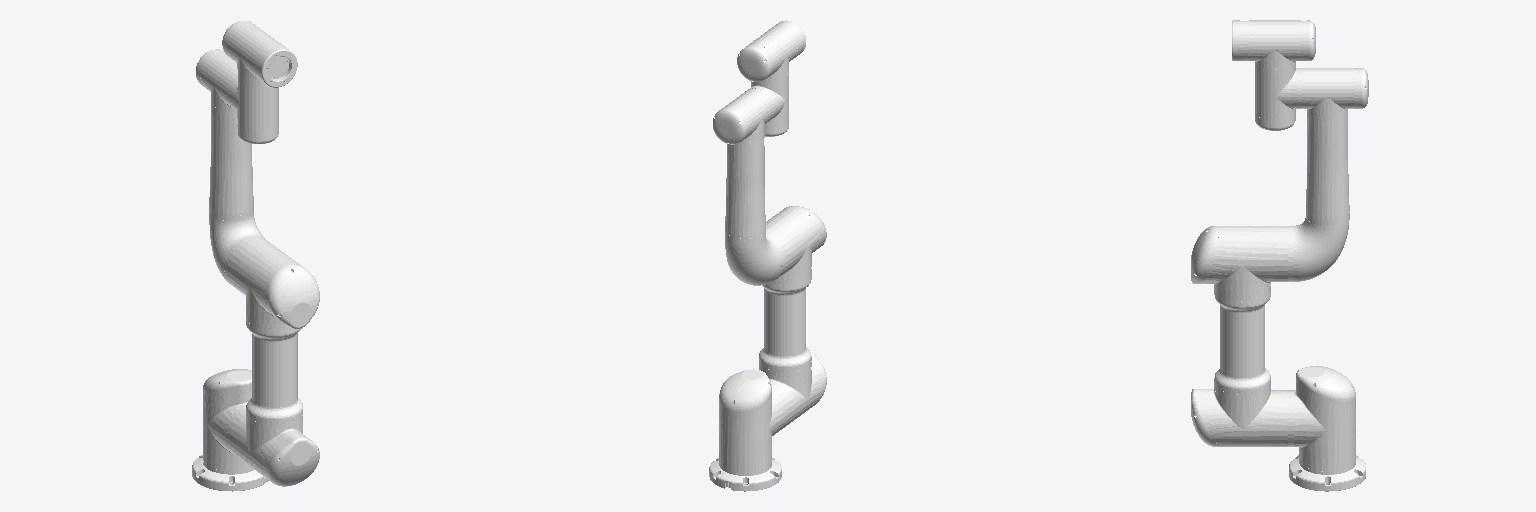
The robot description file, URDF, robot "c800_description":
<?xml version="1.0" encoding="utf-8"?>
<!-- This URDF was automatically created by SolidWorks to URDF Exporter! Originally created by [author] ([email redacted]) 
     Commit Version: 1.5.1-0-g916b5db  Build Version: 1.5.7152.31018
     For more information, please see http://wiki.ros.org/sw_urdf_exporter -->
<robot
  name="c800_description">
  <link
    name="base_link">
    <inertial>
      <origin
        xyz="5.1159E-06 -0.00045852 0.01511"
        rpy="0 0 0" />
      <mass
        value="0.47731" />
      <inertia
        ixx="0.00060819"
        ixy="-1.4211E-07"
        ixz="2.912E-08"
        iyy="0.00062131"
        iyz="-2.5797E-06"
        izz="0.0011481" />
    </inertial>
    <visual>
      <origin
        xyz="0 0 0"
        rpy="0 0 0" />
      <geometry>
        <mesh
          filename="package://c800_description/meshes/base_link.STL" />
      </geometry>
      <material
        name="">
        <color
          rgba="1 1 1 1" />
      </material>
    </visual>
    <collision>
      <origin
        xyz="0 0 0"
        rpy="0 0 0" />
      <geometry>
        <mesh
          filename="package://c800_description/meshes/base_link.STL" />
      </geometry>
    </collision>
  </link>
  <link
    name="link_1">
    <inertial>
      <origin
        xyz="0.009995 0.00010952 -0.088076"
        rpy="0 0 0" />
      <mass
        value="1.8893" />
      <inertia
        ixx="0.0041014"
        ixy="-5.8451E-06"
        ixz="0.0003739"
        iyy="0.0046287"
        iyz="4.1148E-06"
        izz="0.0033533" />
    </inertial>
    <visual>
      <origin
        xyz="0 0 0"
        rpy="0 0 0" />
      <geometry>
        <mesh
          filename="package://c800_description/meshes/link_1.STL" />
      </geometry>
      <material
        name="">
        <color
          rgba="1 1 1 1" />
      </material>
    </visual>
    <collision>
      <origin
        xyz="0 0 0"
        rpy="0 0 0" />
      <geometry>
        <mesh
          filename="package://c800_description/meshes/link_1.STL" />
      </geometry>
    </collision>
  </link>
  <joint
    name="joint_1"
    type="revolute">
    <origin
      xyz="0 0 0.0317"
      rpy="3.1416 0 -1.5598" />
    <parent
      link="base_link" />
    <child
      link="link_1" />
    <axis
      xyz="0 0 1" />
    <limit
      lower="-3"
      upper="3"
      effort="100"
      velocity="3" />
  </joint>
  <link
    name="link_2">
    <inertial>
      <origin
        xyz="0.087798 0.00096966 -0.1742"
        rpy="0 0 0" />
      <mass
        value="5.0587" />
      <inertia
        ixx="0.012152"
        ixy="-2.8164E-05"
        ixz="-3.968E-10"
        iyy="0.014702"
        iyz="-4.2598E-08"
        izz="0.0095763" />
    </inertial>
    <visual>
      <origin
        xyz="0 0 0"
        rpy="0 0 0" />
      <geometry>
        <mesh
          filename="package://c800_description/meshes/link_2.STL" />
      </geometry>
      <material
        name="">
        <color
          rgba="1 1 1 1" />
      </material>
    </visual>
    <collision>
      <origin
        xyz="0 0 0"
        rpy="0 0 0" />
      <geometry>
        <mesh
          filename="package://c800_description/meshes/link_2.STL" />
      </geometry>
    </collision>
  </link>
  <joint
    name="joint_2"
    type="revolute">
    <origin
      xyz="0.075695 0.00083599 -0.087"
      rpy="0 0 0" />
    <parent
      link="link_1" />
    <child
      link="link_2" />
    <axis
      xyz="0.99994 0.011043 0" />
    <limit
      lower="-3"
      upper="3"
      effort="100"
      velocity="3" />
  </joint>
  <link
    name="link_3">
    <inertial>
      <origin
        xyz="-0.074461 -0.00081729 -0.18595"
        rpy="0 0 0" />
      <mass
        value="2.4785" />
      <inertia
        ixx="0.0066463"
        ixy="-2.7745E-06"
        ixz="-0.00025133"
        iyy="0.0069332"
        iyz="-2.9588E-06"
        izz="0.0024538" />
    </inertial>
    <visual>
      <origin
        xyz="0 0 0"
        rpy="0 0 0" />
      <geometry>
        <mesh
          filename="package://c800_description/meshes/link_3.STL" />
      </geometry>
      <material
        name="">
        <color
          rgba="1 1 1 1" />
      </material>
    </visual>
    <collision>
      <origin
        xyz="0 0 0"
        rpy="0 0 0" />
      <geometry>
        <mesh
          filename="package://c800_description/meshes/link_3.STL" />
      </geometry>
    </collision>
  </link>
  <joint
    name="joint_3"
    type="revolute">
    <origin
      xyz="0 0 -0.3484"
      rpy="0 0 0" />
    <parent
      link="link_2" />
    <child
      link="link_3" />
    <axis
      xyz="0.99994 0.011043 0" />
    <limit
      lower="-3"
      upper="3"
      effort="100"
      velocity="3" />
  </joint>
  <link
    name="link_4">
    <inertial>
      <origin
        xyz="0.03744 0.00041334 0.011039"
        rpy="0 0 0" />
      <mass
        value="0.69512" />
      <inertia
        ixx="0.0007079"
        ixy="-9.1282E-07"
        ixz="-1.3418E-11"
        iyy="0.00079063"
        iyz="-9.8306E-11"
        izz="0.00062854" />
    </inertial>
    <visual>
      <origin
        xyz="0 0 0"
        rpy="0 0 0" />
      <geometry>
        <mesh
          filename="package://c800_description/meshes/link_4.STL" />
      </geometry>
      <material
        name="">
        <color
          rgba="1 1 1 1" />
      </material>
    </visual>
    <collision>
      <origin
        xyz="0 0 0"
        rpy="0 0 0" />
      <geometry>
        <mesh
          filename="package://c800_description/meshes/link_4.STL" />
      </geometry>
    </collision>
  </link>
  <joint
    name="joint_4"
    type="revolute">
    <origin
      xyz="-0.017899 -0.00019768 -0.3495"
      rpy="0 0 0" />
    <parent
      link="link_3" />
    <child
      link="link_4" />
    <axis
      xyz="-0.99994 -0.011043 0" />
    <limit
      lower="-3"
      upper="3"
      effort="100"
      velocity="3" />
  </joint>
  <link
    name="link_5">
    <inertial>
      <origin
        xyz="-0.011486 -0.00012684 -0.045406"
        rpy="0 0 0" />
      <mass
        value="0.69038" />
      <inertia
        ixx="0.00062179"
        ixy="-1.8272E-06"
        ixz="1.9143E-11"
        iyy="0.00078721"
        iyz="5.7484E-12"
        izz="0.00070448" />
    </inertial>
    <visual>
      <origin
        xyz="0 0 0"
        rpy="0 0 0" />
      <geometry>
        <mesh
          filename="package://c800_description/meshes/link_5.STL" />
      </geometry>
      <material
        name="">
        <color
          rgba="1 1 1 1" />
      </material>
    </visual>
    <collision>
      <origin
        xyz="0 0 0"
        rpy="0 0 0" />
      <geometry>
        <mesh
          filename="package://c800_description/meshes/link_5.STL" />
      </geometry>
    </collision>
  </link>
  <joint
    name="joint_5"
    type="revolute">
    <origin
      xyz="0.042397 0.00046824 -0.0501"
      rpy="0 0 0" />
    <parent
      link="link_4" />
    <child
      link="link_5" />
    <axis
      xyz="0 0 1" />
    <limit
      lower="-3"
      upper="3"
      effort="100"
      velocity="3" />
  </joint>
  <link
    name="link_6">
    <inertial>
      <origin
        xyz="0.01497 0.00016533 -6.0527E-10"
        rpy="0 0 0" />
      <mass
        value="0.13891" />
      <inertia
        ixx="0.00011411"
        ixy="5.0377E-07"
        ixz="1.0257E-12"
        iyy="6.8505E-05"
        iyz="-1.0223E-10"
        izz="6.85E-05" />
    </inertial>
    <visual>
      <origin
        xyz="0 0 0"
        rpy="0 0 0" />
      <geometry>
        <mesh
          filename="package://c800_description/meshes/link_6.STL" />
      </geometry>
      <material
        name="">
        <color
          rgba="1 1 1 1" />
      </material>
    </visual>
    <collision>
      <origin
        xyz="0 0 0"
        rpy="0 0 0" />
      <geometry>
        <mesh
          filename="package://c800_description/meshes/link_6.STL" />
      </geometry>
    </collision>
  </link>
  <joint
    name="joint_6"
    type="revolute">
    <origin
      xyz="0.050097 0.00055327 -0.0504"
      rpy="0 0 0" />
    <parent
      link="link_5" />
    <child
      link="link_6" />
    <axis
      xyz="1 0 0" />
    <limit
      lower="-3"
      upper="3"
      effort="100"
      velocity="3" />
  </joint>
</robot>

--- Facts derived from the render (not from the file) ---
3 views of the same robot in one strip: view 1: azimuth 30°, elevation 25°; view 2: azimuth 150°, elevation 25°; view 3: azimuth 270°, elevation 25° (orthographic).
Robot: c800_description — 7 links, 6 joints (6 revolute); root link base_link; default pose: every joint at zero.
Links seen in each view (by area): view 1: link_2, link_3, link_1, link_4, link_5, base_link, link_6; view 2: link_2, link_3, link_1, link_5, base_link, link_4; view 3: link_2, link_3, link_1, link_5, link_4, base_link, link_6.
Link boxes in pixels (box(x1,y1,x2,y2)): link_2: box(227, 238, 319, 486); link_3: box(196, 49, 265, 286); link_1: box(203, 369, 251, 470); link_4: box(229, 76, 278, 143); link_5: box(222, 21, 281, 81); base_link: box(192, 455, 268, 491); link_6: box(254, 43, 297, 87); link_2: box(759, 206, 826, 429); link_3: box(713, 87, 786, 285); link_1: box(719, 369, 786, 472); link_5: box(737, 26, 798, 81); base_link: box(709, 458, 781, 491); link_4: box(751, 73, 788, 136); link_2: box(1191, 226, 1287, 446); link_3: box(1288, 68, 1368, 281); link_1: box(1288, 366, 1355, 471); link_5: box(1249, 20, 1315, 68); link_4: box(1255, 62, 1296, 130); base_link: box(1289, 455, 1365, 491); link_6: box(1232, 20, 1248, 60).
Size in the robot's own frame: 0.1488 by 0.3391 by 0.9571 metres.
7 mesh visuals loaded from 7 distinct referenced files (7 binary STL).
